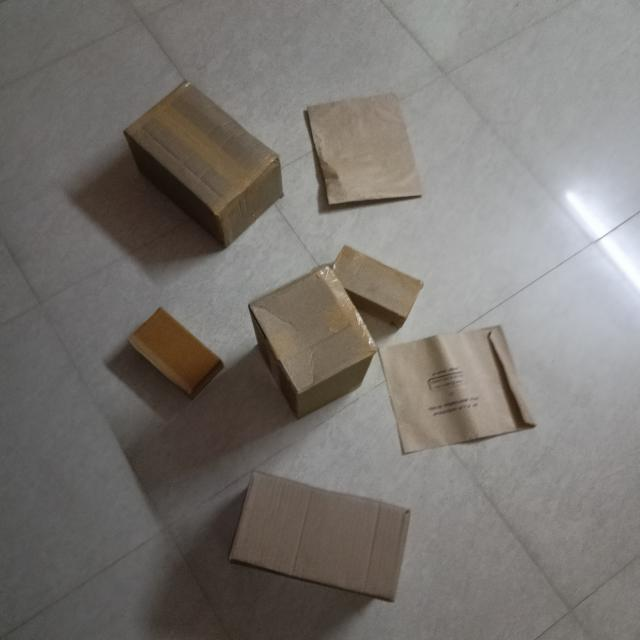box: (125, 85, 287, 248), (229, 475, 413, 604), (379, 327, 536, 458), (249, 267, 378, 420), (304, 95, 425, 216), (128, 311, 224, 399)
